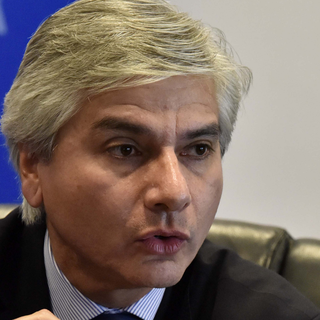eye: (175, 136, 221, 164), (102, 136, 141, 163)
